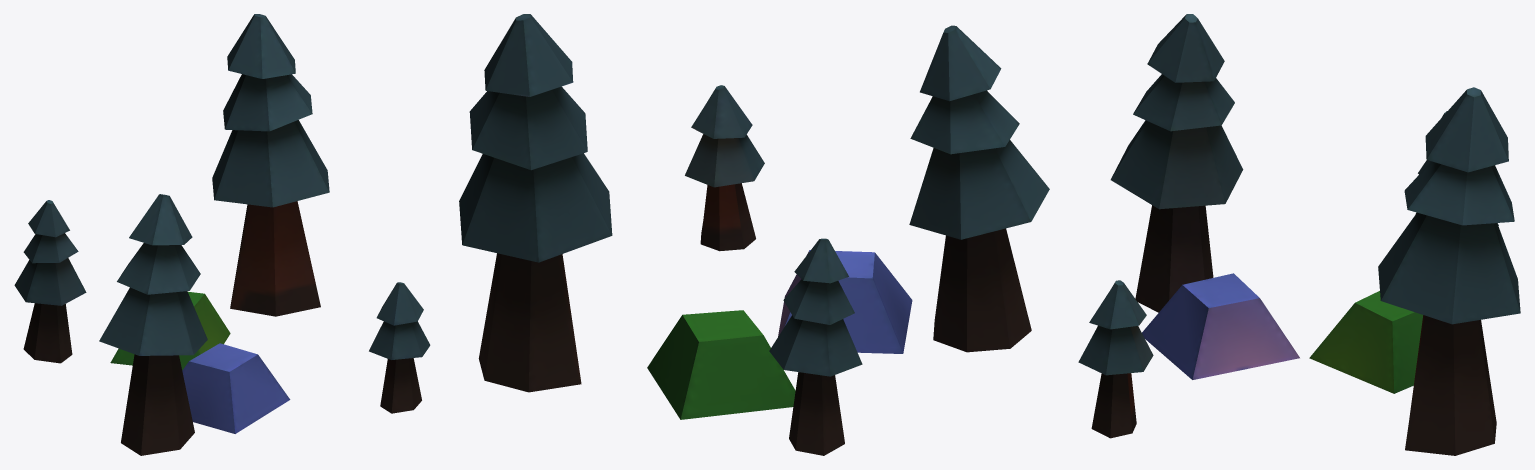
The model's file is waste_1_lod2.fbx.
The picture shows the model from 3 angles, left to right: view 1: azimuth 30°, elevation 25°; view 2: azimuth 150°, elevation 25°; view 3: azimuth 270°, elevation 25°; orthographic projection. The views are drawn at different scales.
Visible parts, largest first — view 1: waste_1_lod2; view 2: waste_1_lod2; view 3: waste_1_lod2.
Boxes of the visible parts, x1,y1,x2,y2 form: waste_1_lod2: [14, 14, 430, 455]; waste_1_lod2: [459, 14, 1049, 455]; waste_1_lod2: [1078, 14, 1520, 455].
Bounding box in the file's own units: 0.0571 × 0.0457 × 0.0538.
